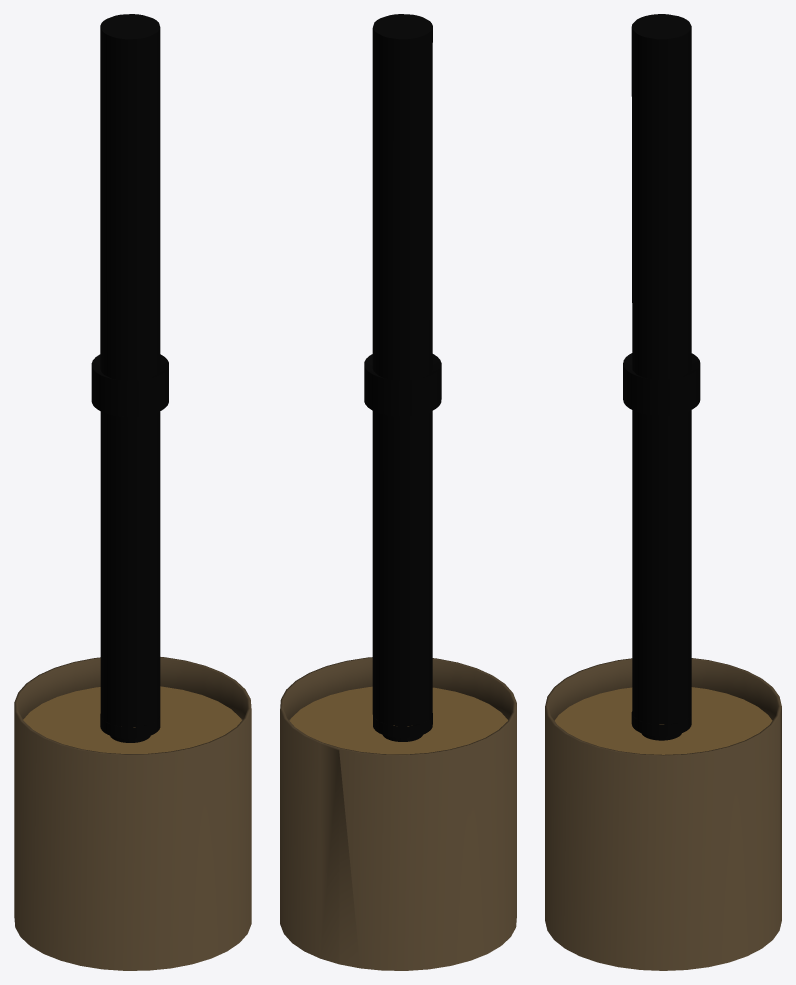
The model's file is bag-stand-transformed.glb.
3 views of the same model, side by side, from view 1: azimuth 30°, elevation 25°; view 2: azimuth 150°, elevation 25°; view 3: azimuth 270°, elevation 25° (orthographic).
Parts seen in each view (by area): view 1: Cylinder.003, Cylinder.001, Circle; view 2: Cylinder.003, Cylinder.001, Circle; view 3: Cylinder.003, Cylinder.001, Circle.
Part boxes in pixels (left/top/right/bottom): Cylinder.003: left=14, top=657, right=251, bottom=970; Cylinder.001: left=91, top=14, right=168, bottom=742; Circle: left=23, top=686, right=241, bottom=753; Cylinder.003: left=280, top=657, right=516, bottom=970; Cylinder.001: left=364, top=14, right=441, bottom=741; Circle: left=290, top=686, right=507, bottom=754; Cylinder.003: left=545, top=658, right=781, bottom=970; Cylinder.001: left=623, top=14, right=700, bottom=740; Circle: left=554, top=687, right=772, bottom=754.
Size of the model in its own units: 0.8306 by 3.45 by 0.8306.
